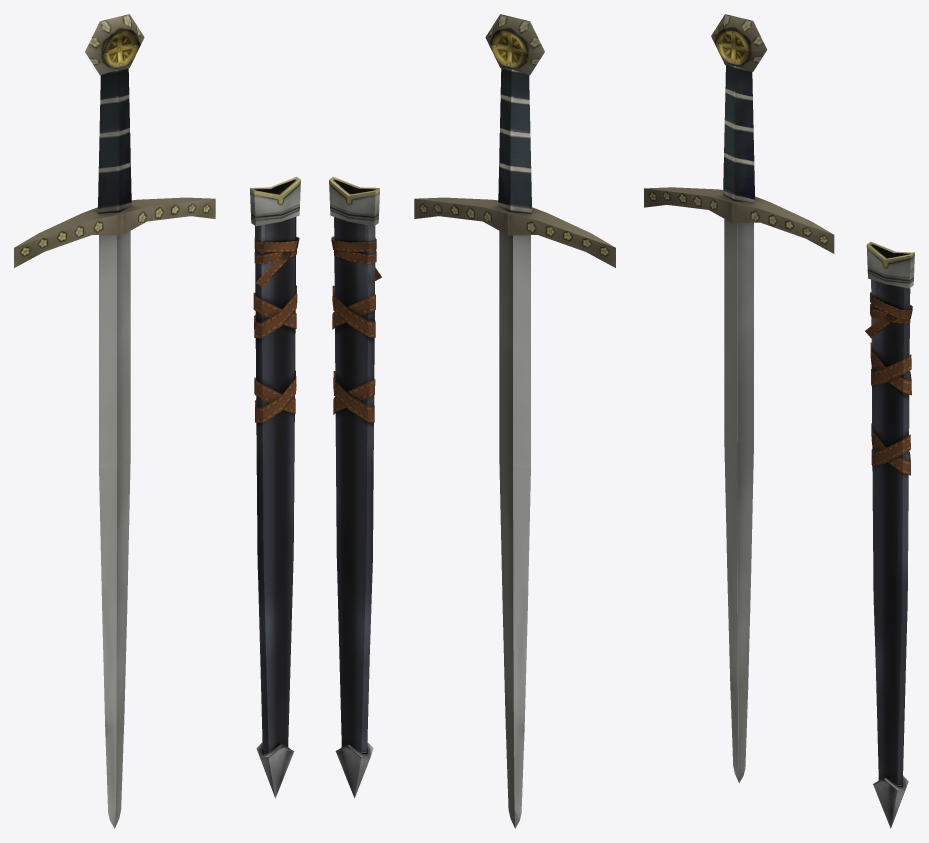
The model's file is broadsword2.FBX.
3 renders of one model, left to right at view 1: azimuth 30°, elevation 25°; view 2: azimuth 150°, elevation 25°; view 3: azimuth 330°, elevation 25°, orthographic. The views are drawn at different scales.
Parts seen in each view (by area): view 1: broadsword2, Broadsword2_sheath; view 2: broadsword2, Broadsword2_sheath; view 3: broadsword2, Broadsword2_sheath.
Part boxes in pixels (x1,y1,x2,y2): broadsword2: [14, 14, 215, 828]; Broadsword2_sheath: [250, 176, 300, 798]; broadsword2: [414, 14, 615, 828]; Broadsword2_sheath: [329, 176, 381, 797]; broadsword2: [644, 14, 834, 783]; Broadsword2_sheath: [865, 241, 914, 828].
Size of the model in its own units: 25.81 by 71 by 2.24.
